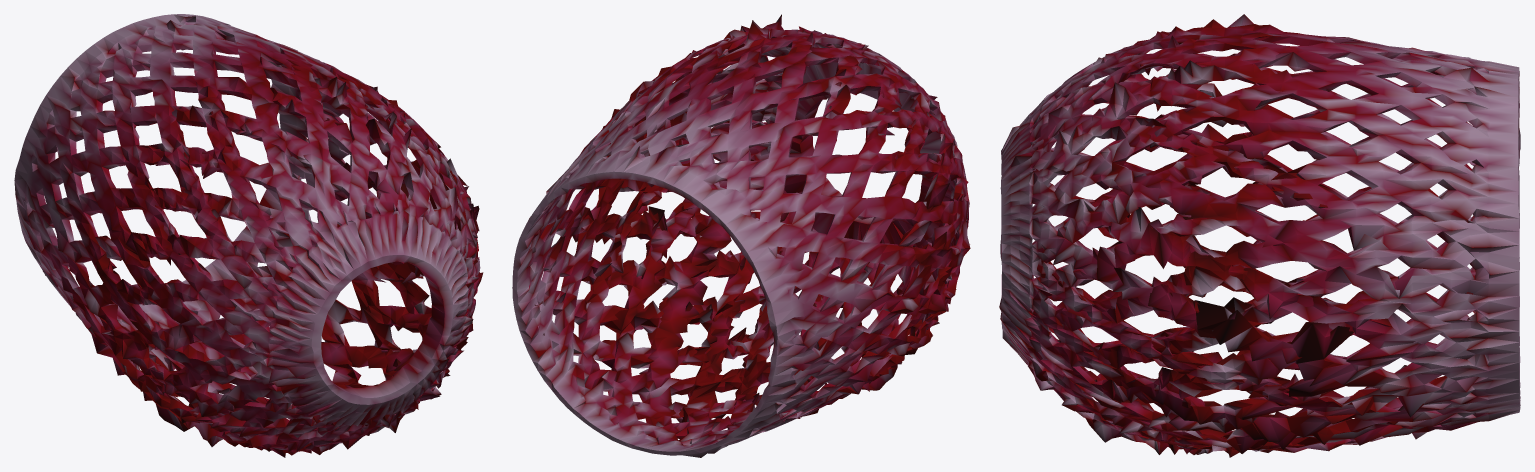
The model's file is lamp_shade_14_final400.obj.
3 views of the same model, side by side, from view 1: azimuth 30°, elevation 25°; view 2: azimuth 150°, elevation 25°; view 3: azimuth 270°, elevation 25° (orthographic). The views are drawn at different scales.
Size of the model in its own units: 1.27 by 1.26 by 1.5.
